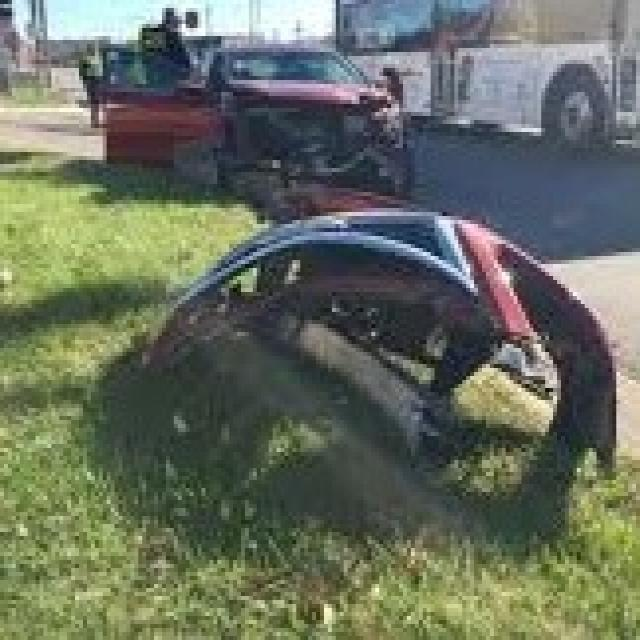severe: (123, 212, 615, 480), (55, 0, 538, 208)
